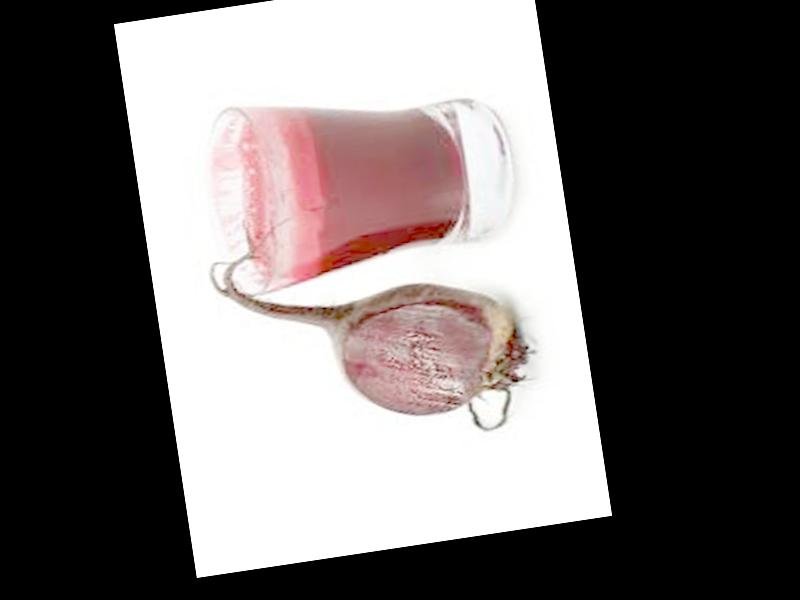Beet: (204, 190, 542, 467)
